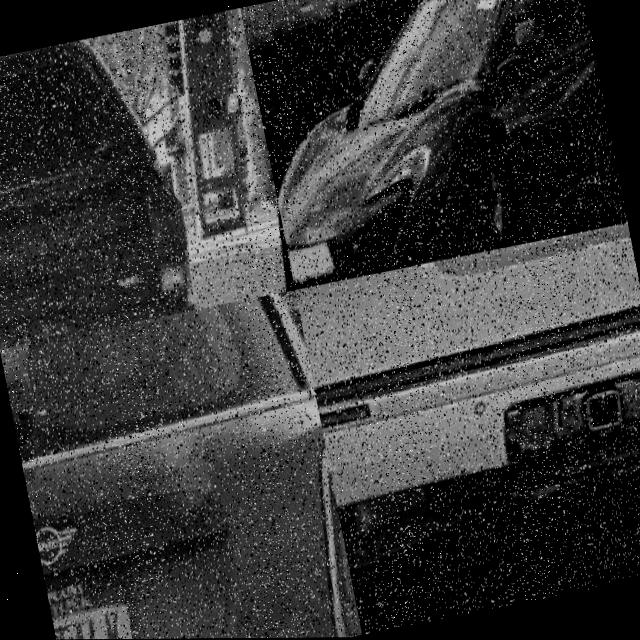LicensePlate: (48, 573, 144, 640), (290, 240, 340, 283)
